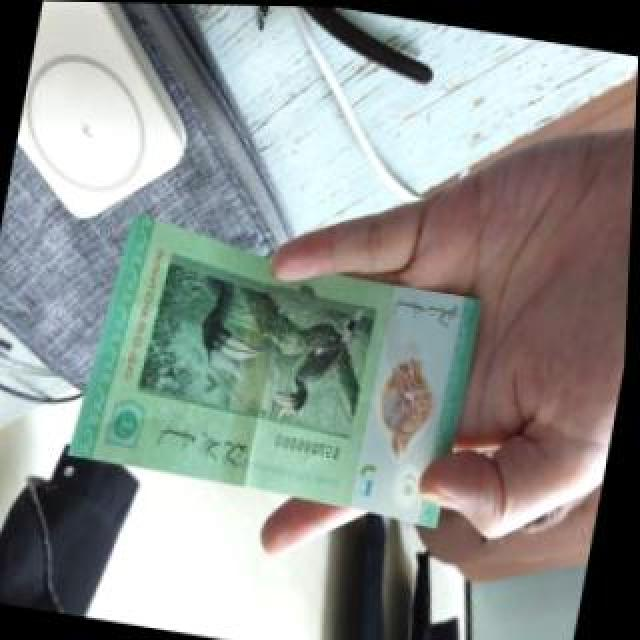5 Ringgit: (74, 232, 492, 521)
